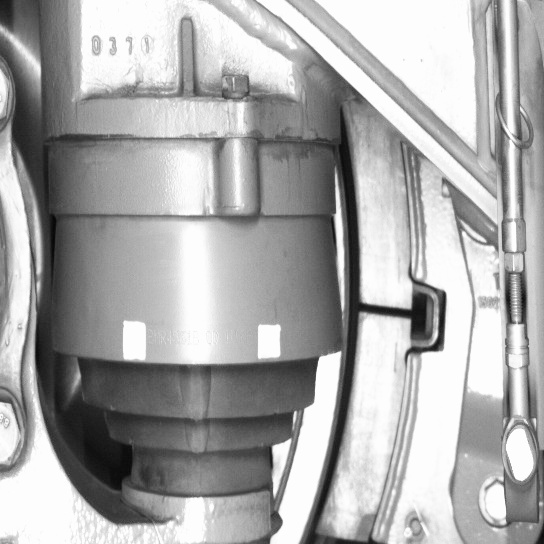KnifeSwitch: (299, 141, 422, 542)
